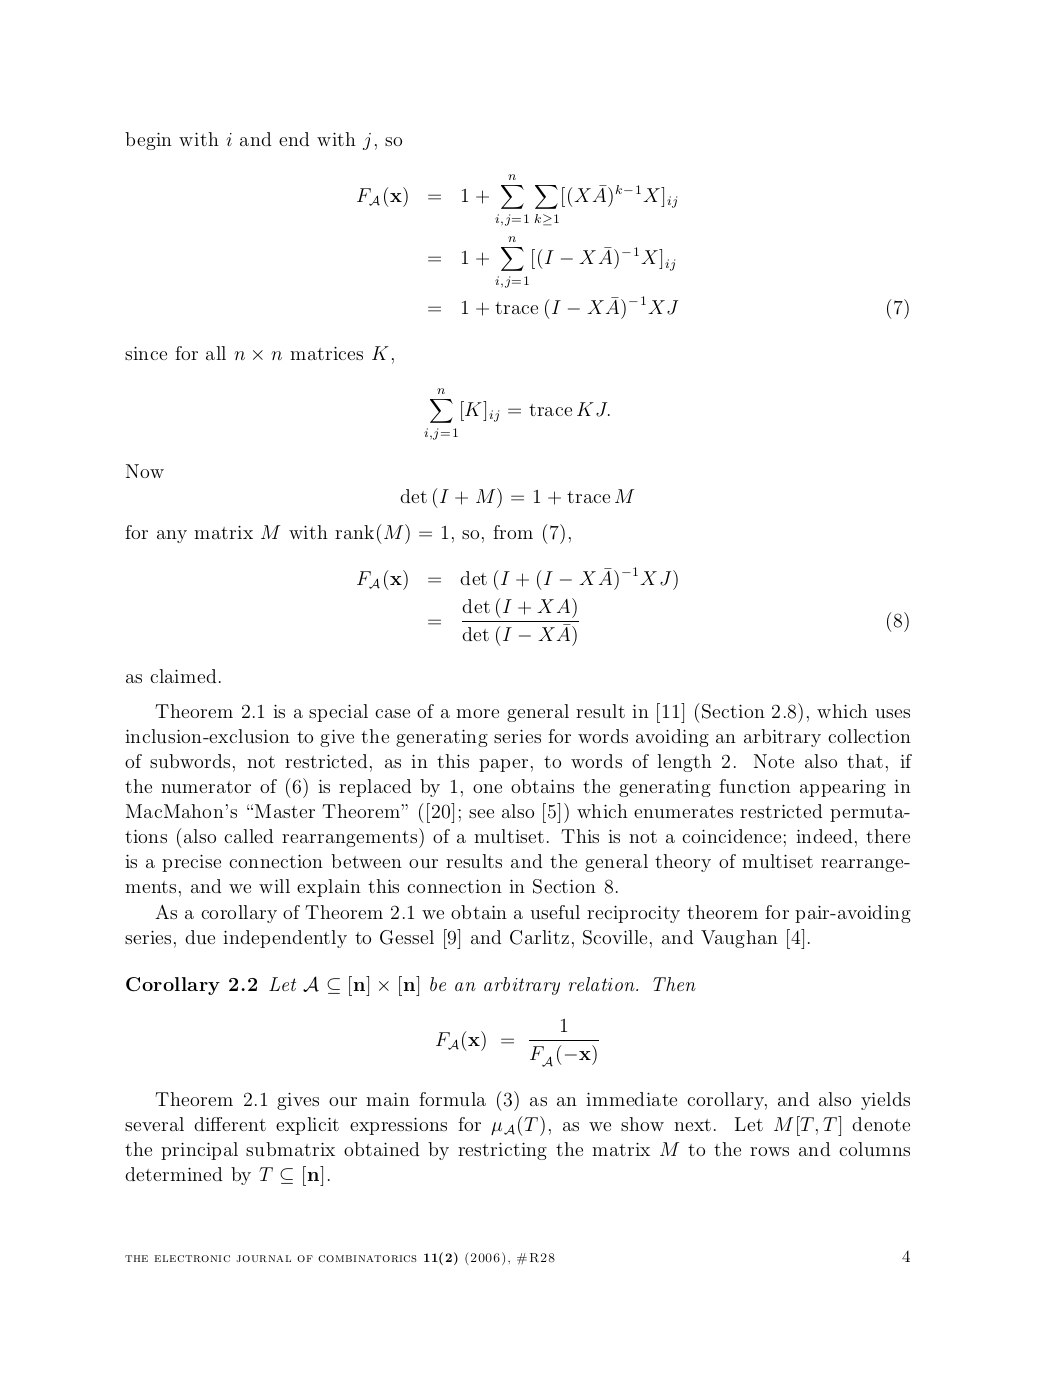formula: (428, 597, 908, 646), (357, 174, 676, 225), (428, 236, 675, 288), (428, 295, 908, 319), (424, 388, 609, 439), (436, 1017, 598, 1067), (357, 566, 676, 590), (400, 487, 634, 508)
